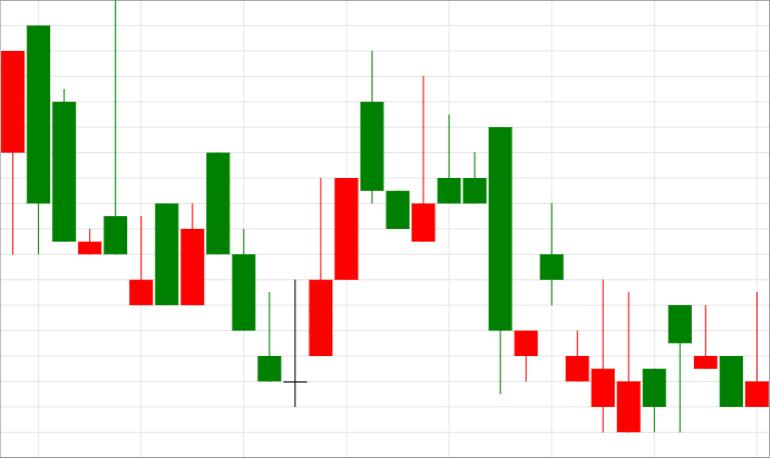morning_star_rise: (156, 153, 332, 406)
